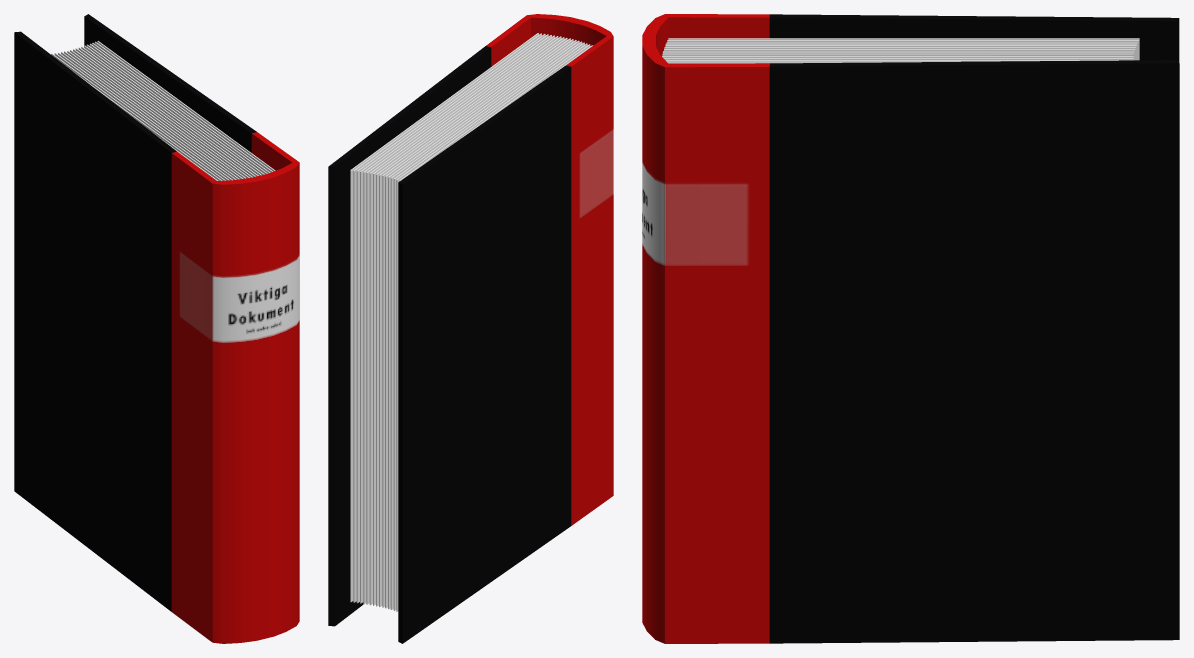
File: pärm 1.fbx
The picture shows the model from 3 angles, left to right: view 1: azimuth 30°, elevation 25°; view 2: azimuth 150°, elevation 25°; view 3: azimuth 270°, elevation 25°; orthographic projection. The views are drawn at different scales.
Parts seen in each view (by area): view 1: polySurface59; view 2: polySurface59; view 3: polySurface59.
Part boxes in pixels (left/top/right/bottom): polySurface59: left=14, top=14, right=299, bottom=643; polySurface59: left=328, top=14, right=613, bottom=643; polySurface59: left=642, top=14, right=1179, bottom=643.
Size of the model in its own units: 0.8934 by 4.51 by 3.81.
